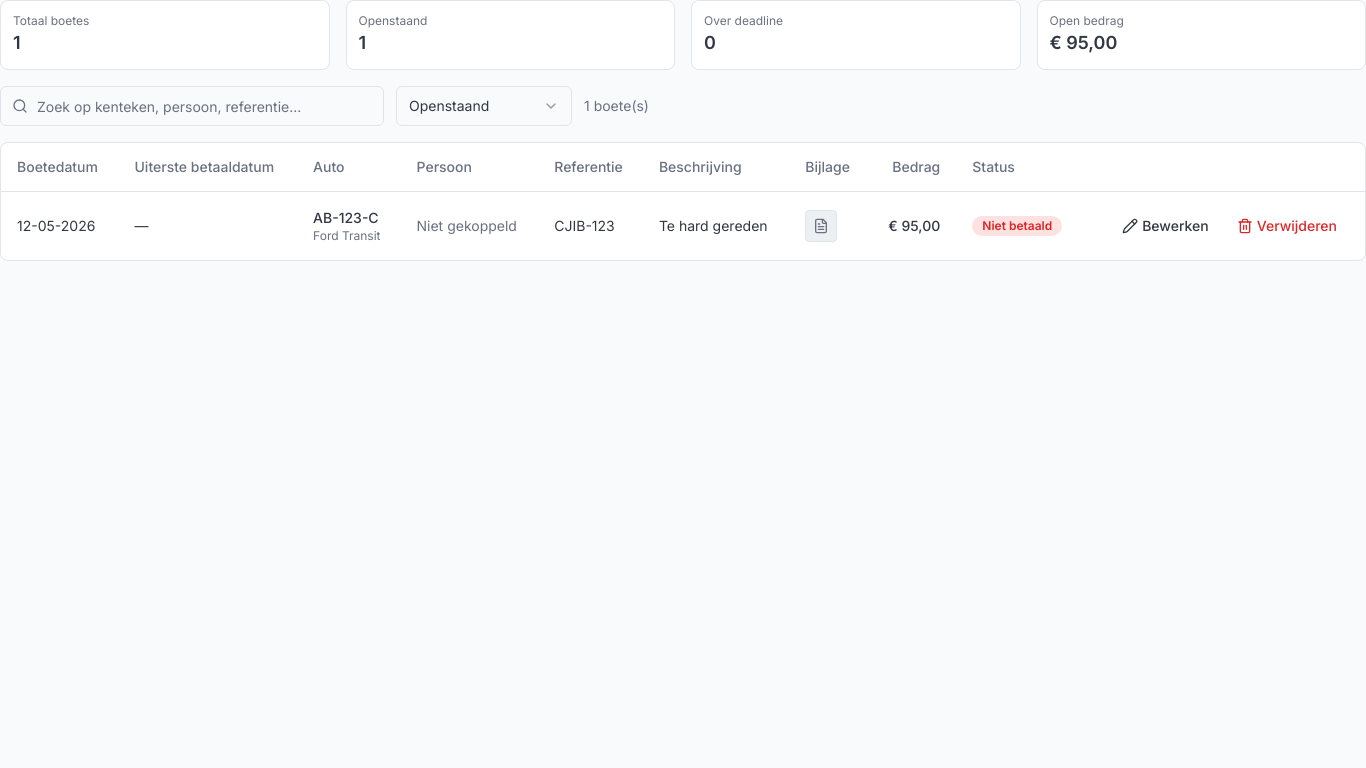
Test case: TransportFinesTab: verwijderen › vraagt bevestiging met kenteken, bedrag en datum, verwijdert eerst de rij en dan de foto, en logt de oude waarden
Click the button "Verwijderen".
click(1287, 226)  # box [1225,210,1349,242]
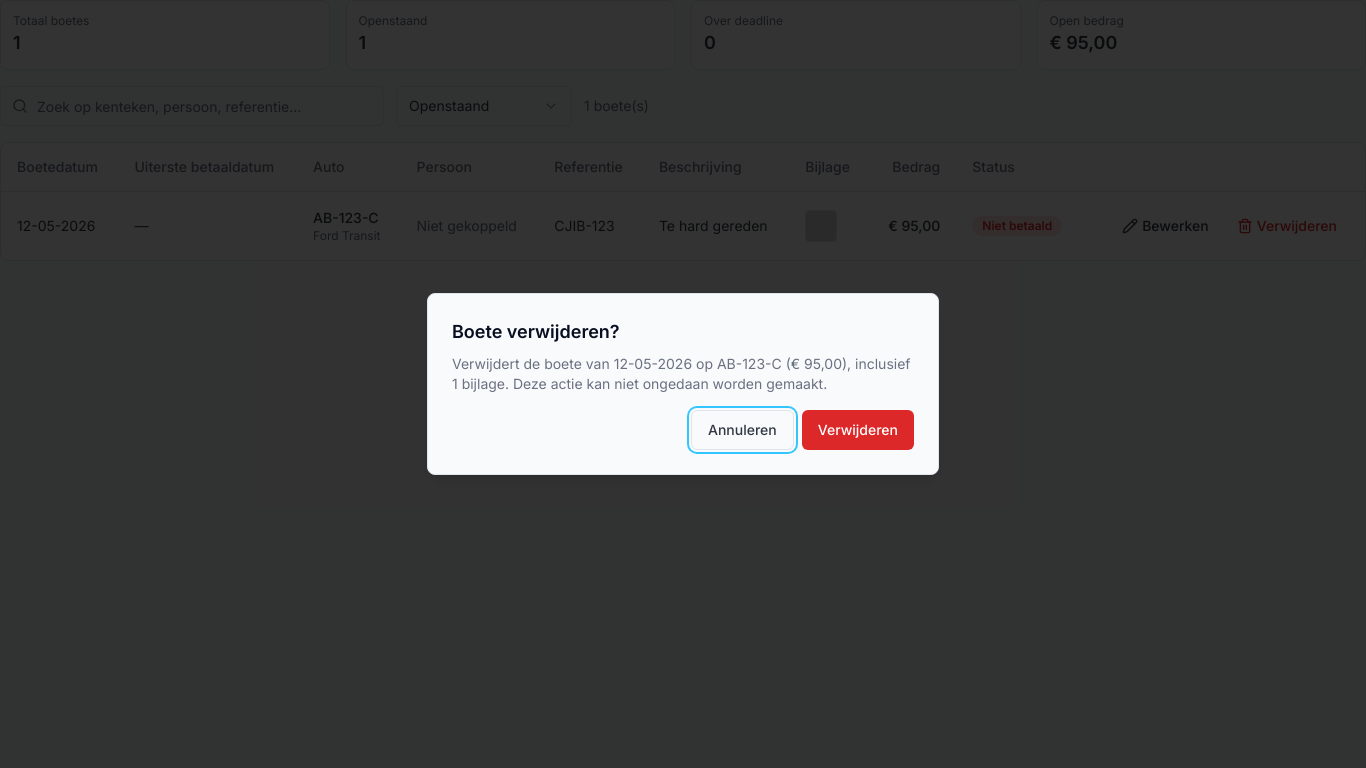
Expected: the heading "Boete verwijderen?" is shown, [452,321,620,342]
Expected: the text "Verwijdert de boete van" shows "12-05-2026", [452,355,910,392]
Expected: the text "Verwijdert de boete van" shows "AB-123-C", [452,355,910,392]
Click the button "Verwijderen".
click(858, 430)  # box [802,410,914,450]
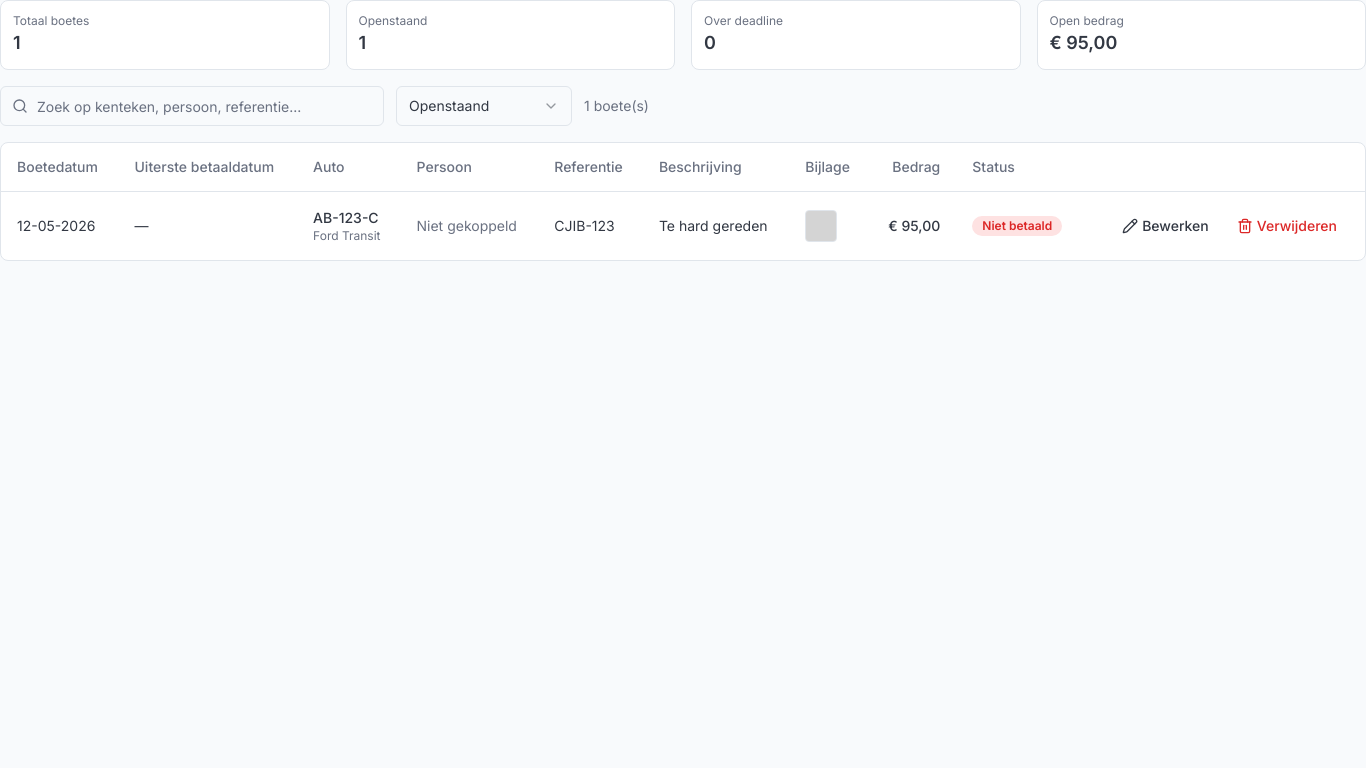
Expected: the dialog is gone
